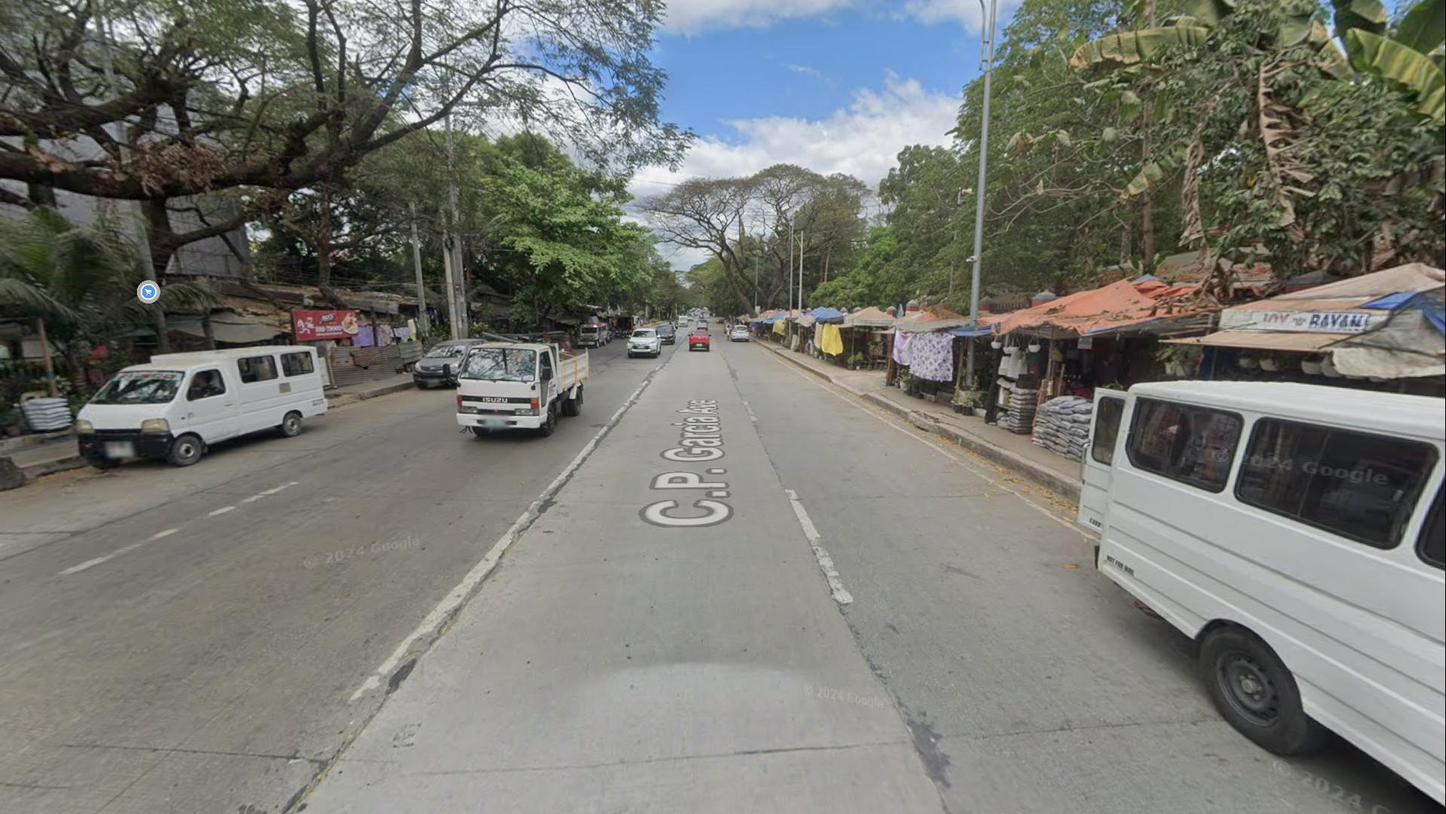pedestrian: (725, 324, 731, 341)
